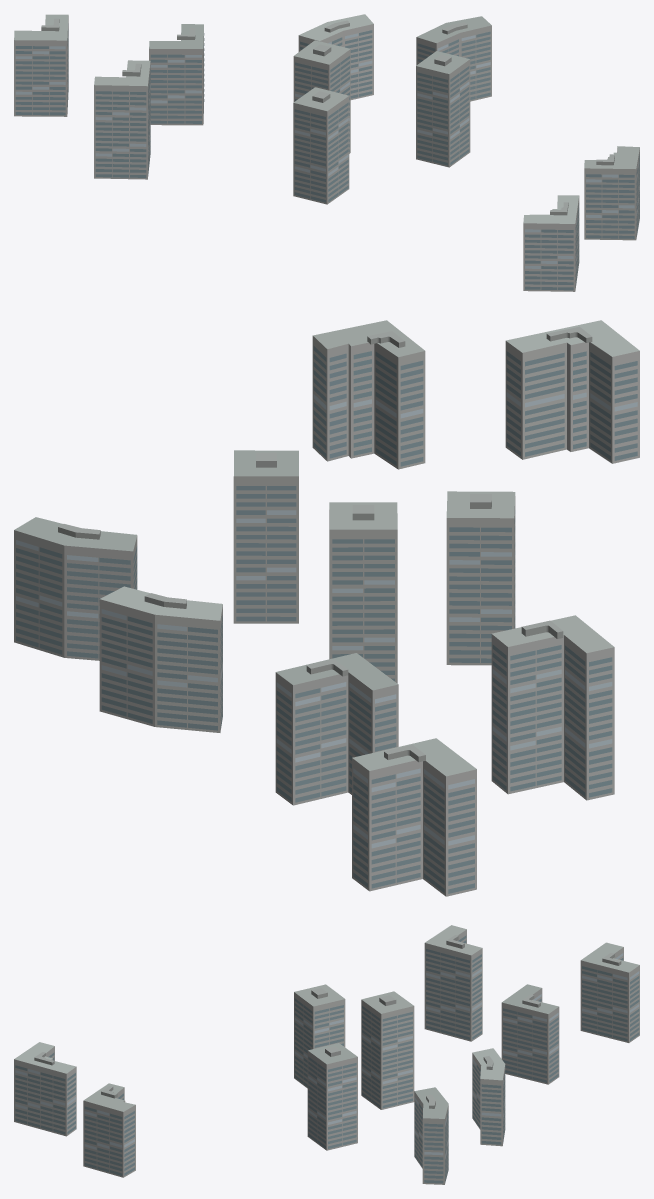
File: apt-a41279923.glb
3 renders of one model, top to bottom at view 1: azimuth 30°, elevation 25°; view 2: azimuth 150°, elevation 25°; view 3: azimuth 270°, elevation 25°, orthographic. The views are drawn at different scales.
Visible parts, largest first — view 1: apt-a41279923; view 2: apt-a41279923; view 3: apt-a41279923.
Boxes of the visible parts, x1=… form: apt-a41279923: x1=14, y1=14, x2=639, y2=291; apt-a41279923: x1=14, y1=320, x2=639, y2=896; apt-a41279923: x1=14, y1=925, x2=639, y2=1184.
Size of the model in its own units: 227 by 61 by 346.
